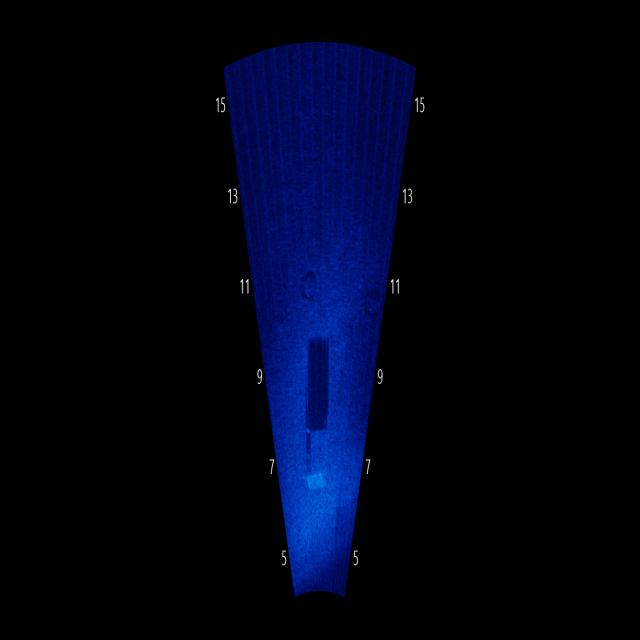circle: (298, 261, 322, 312)
square: (299, 408, 336, 508)
